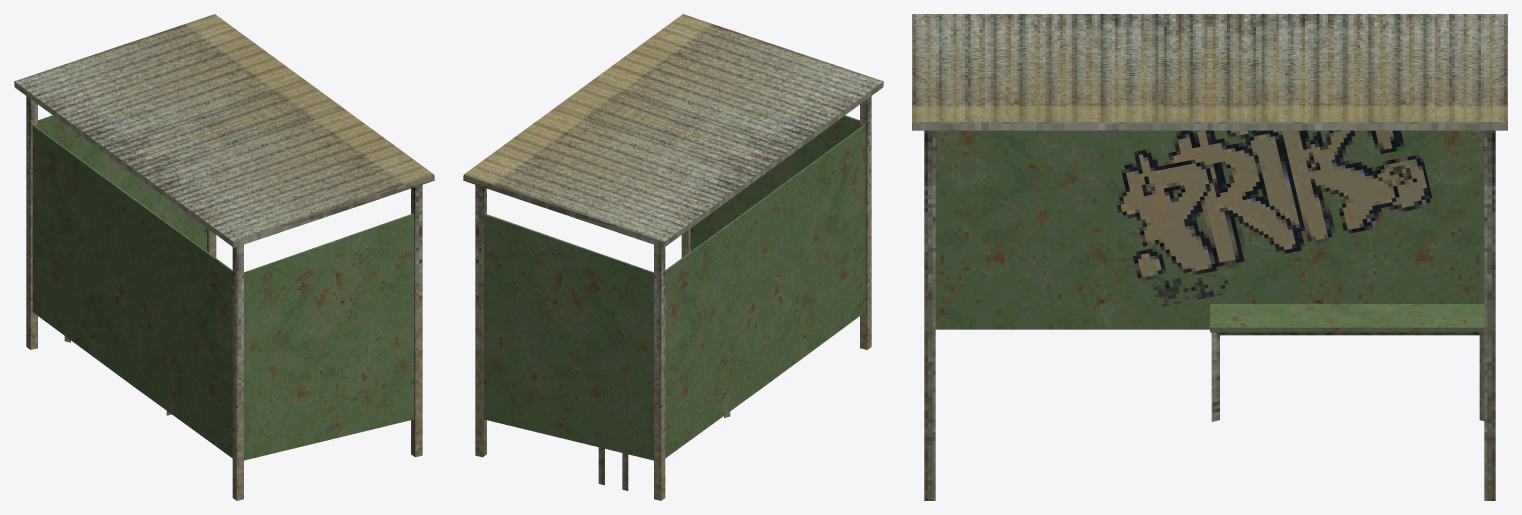
Rendered from busstop_graffiti_alt.glb.
The picture shows the model from 3 angles, left to right: view 1: azimuth 30°, elevation 25°; view 2: azimuth 150°, elevation 25°; view 3: azimuth 270°, elevation 25°; orthographic projection. The views are drawn at different scales.
Visible parts, largest first — view 1: busstop_graffiti_alt; view 2: busstop_graffiti_alt; view 3: busstop_graffiti_alt.
Boxes of the visible parts, x1,y1,x2,y2 form: busstop_graffiti_alt: (14, 14, 434, 500); busstop_graffiti_alt: (463, 14, 883, 500); busstop_graffiti_alt: (912, 14, 1507, 500).
Bounding box in the file's own units: 2.26 × 3.03 × 4.26.
Materials: 1 (1 with a texture image).
